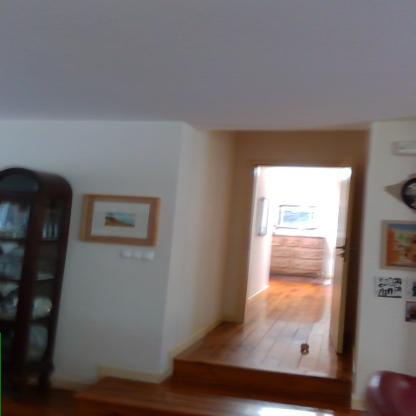open: (224, 143, 372, 397)
